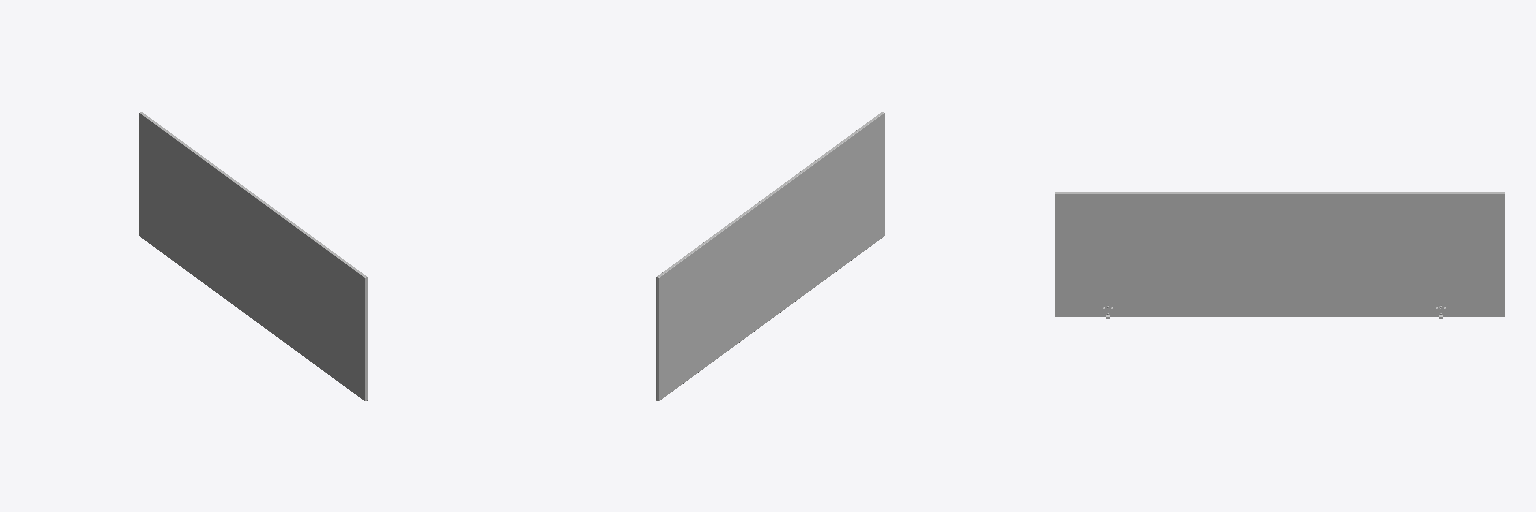
The model's file is wardrobe_door_right.obj.
3 renders of one model, left to right at view 1: azimuth 30°, elevation 25°; view 2: azimuth 150°, elevation 25°; view 3: azimuth 270°, elevation 25°, orthographic.
Visible parts, largest first — view 1: wardrobe_door_right_SM_Kleiderschrank_TurRechts; view 2: wardrobe_door_right_SM_Kleiderschrank_TurRechts; view 3: wardrobe_door_right_SM_Kleiderschrank_TurRechts.
Boxes of the visible parts, x1,y1,x2,y2 form: wardrobe_door_right_SM_Kleiderschrank_TurRechts: [139, 112, 367, 400]; wardrobe_door_right_SM_Kleiderschrank_TurRechts: [656, 112, 884, 400]; wardrobe_door_right_SM_Kleiderschrank_TurRechts: [1055, 192, 1504, 318].
Size of the model in its own units: 0.0342 by 0.4993 by 1.65.